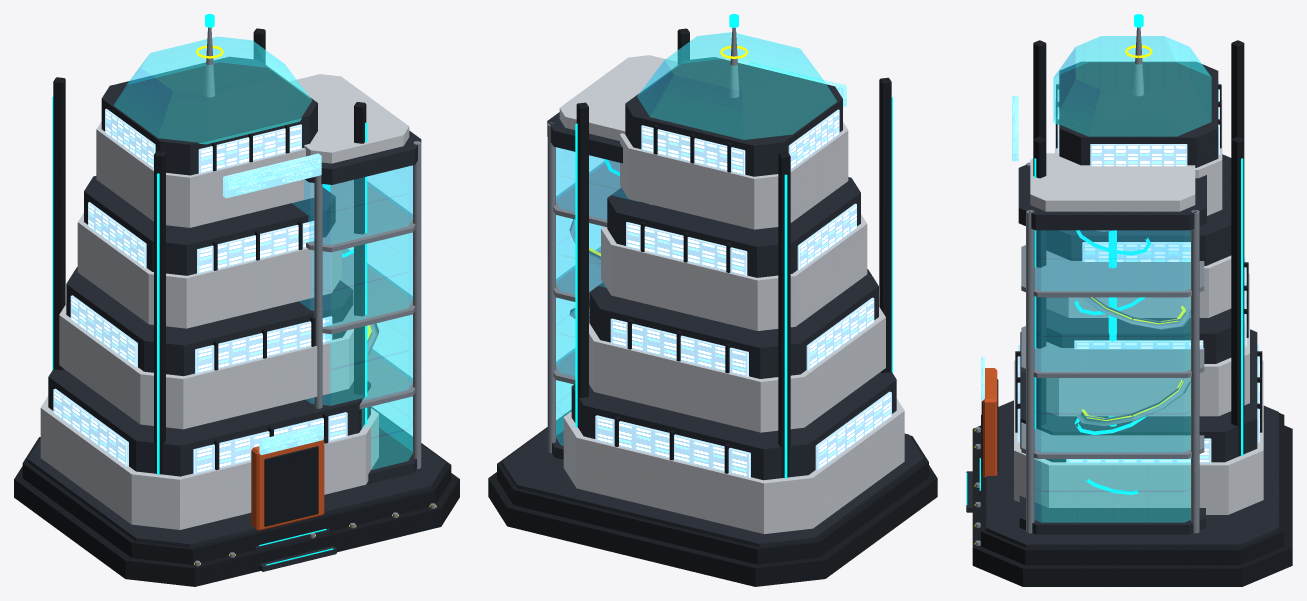
File: bldg_17_r1_04.glb
3 renders of one model, left to right at view 1: azimuth 30°, elevation 25°; view 2: azimuth 150°, elevation 25°; view 3: azimuth 270°, elevation 25°, orthographic. The views are drawn at different scales.
Parts seen in each view (by area): view 1: Bldg17_C04_aero_white, Bldg17_C04_carbon_slate, Bldg17_C04_glass_cyan, Bldg17_C04_gunmetal, Bldg17_C04_window_lit, Bldg17_C04_steel_machined, Bldg17_C04_marquee, Bldg17_C04_led_cyan, Bldg17_C04_accent_orange; view 2: Bldg17_C04_aero_white, Bldg17_C04_carbon_slate, Bldg17_C04_gunmetal, Bldg17_C04_glass_cyan, Bldg17_C04_window_lit, Bldg17_C04_steel_machined, Bldg17_C04_led_cyan; view 3: Bldg17_C04_glass_cyan, Bldg17_C04_carbon_slate, Bldg17_C04_aero_white, Bldg17_C04_gunmetal, Bldg17_C04_steel_machined, Bldg17_C04_window_lit, Bldg17_C04_led_cyan, Bldg17_C04_accent_orange, Bldg17_C04_led_amber, Bldg17_C04_marquee.
Part boxes in pixels (bbox=[...]): Bldg17_C04_aero_white: bbox=[40, 74, 409, 529]; Bldg17_C04_carbon_slate: bbox=[27, 57, 446, 571]; Bldg17_C04_glass_cyan: bbox=[114, 36, 412, 469]; Bldg17_C04_gunmetal: bbox=[14, 28, 459, 586]; Bldg17_C04_window_lit: bbox=[53, 108, 347, 474]; Bldg17_C04_steel_machined: bbox=[194, 27, 435, 566]; Bldg17_C04_marquee: bbox=[223, 153, 323, 454]; Bldg17_C04_led_cyan: bbox=[52, 14, 367, 565]; Bldg17_C04_accent_orange: bbox=[251, 437, 324, 530]; Bldg17_C04_aero_white: bbox=[559, 55, 904, 533]; Bldg17_C04_carbon_slate: bbox=[502, 57, 923, 547]; Bldg17_C04_gunmetal: bbox=[488, 28, 937, 586]; Bldg17_C04_glass_cyan: bbox=[556, 32, 836, 445]; Bldg17_C04_window_lit: bbox=[595, 109, 891, 477]; Bldg17_C04_steel_machined: bbox=[547, 27, 739, 453]; Bldg17_C04_led_cyan: bbox=[575, 14, 892, 478]; Bldg17_C04_glass_cyan: bbox=[1035, 36, 1211, 522]; Bldg17_C04_carbon_slate: bbox=[966, 62, 1278, 547]; Bldg17_C04_aero_white: bbox=[1014, 100, 1263, 514]; Bldg17_C04_gunmetal: bbox=[972, 40, 1292, 586]; Bldg17_C04_steel_machined: bbox=[975, 27, 1204, 545]; Bldg17_C04_window_lit: bbox=[1017, 81, 1259, 463]; Bldg17_C04_led_cyan: bbox=[966, 14, 1243, 505]; Bldg17_C04_accent_orange: bbox=[982, 368, 997, 477]; Bldg17_C04_led_amber: bbox=[974, 45, 1185, 544]; Bldg17_C04_marquee: bbox=[981, 96, 1018, 401].
Bounding box in the file's own units: 12.5 × 17.32 × 10.71.
Materials: 10 (10 with a texture image).
